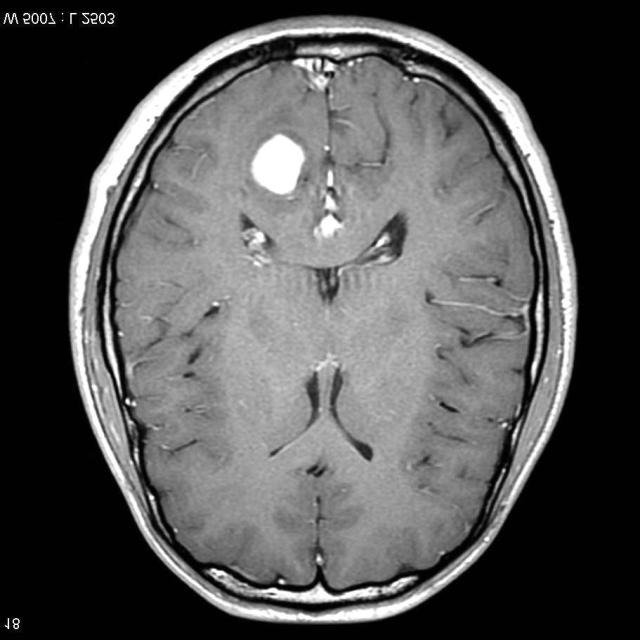Tumor-Cell: (240, 122, 318, 205)
